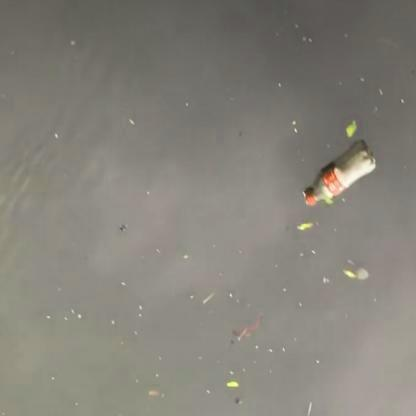Plastic: (302, 141, 378, 208)
